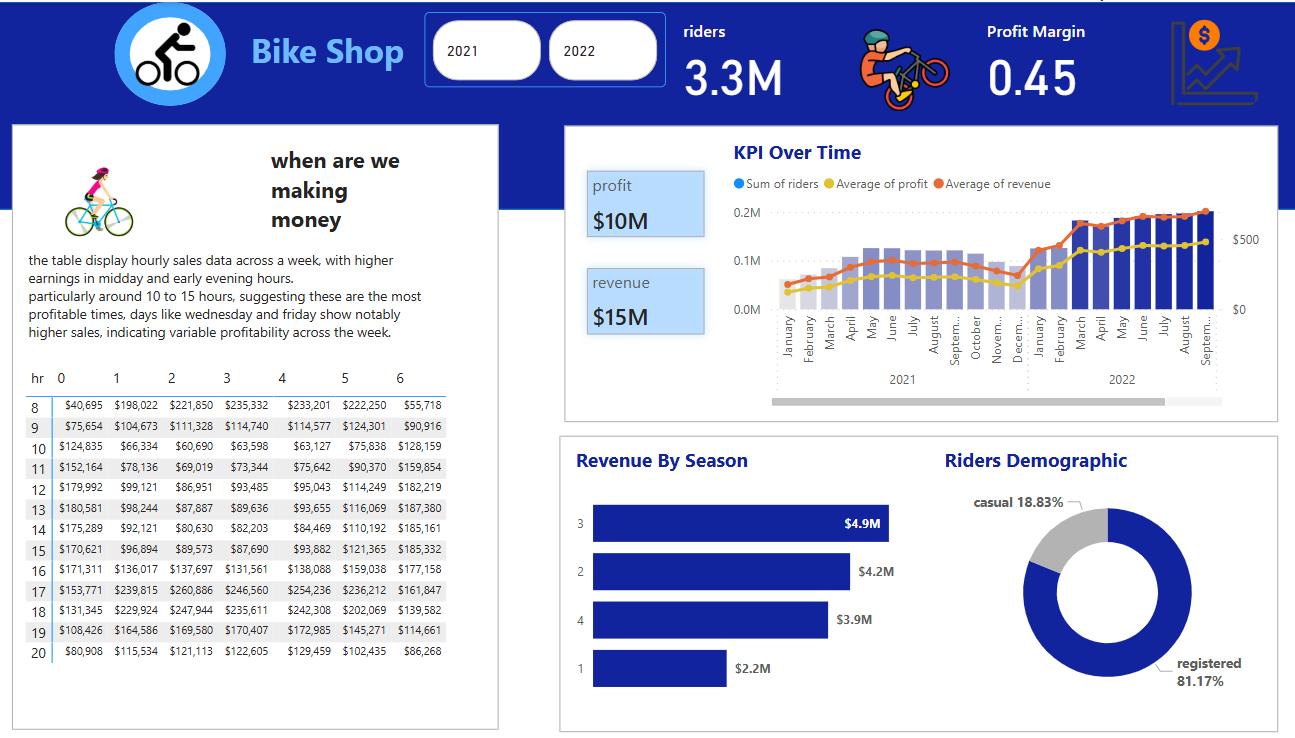

The page's visual inventory and layout, read from the dashboard file:
{"tool":"powerbi","page":{"name":"Page 1","canvas":[1280,720],"ordinal":0},"visuals":[{"type":"shape","box":[9.6,0,1270.7,203.1],"z":0},{"type":"cardVisual","fields":{"Data":["Min(Query1.riders)"]},"box":[19.6,114.9,486.5,602.6],"z":1000},{"type":"cardVisual","fields":{"Data":["Min(Query1.riders)"]},"box":[33,133.2,182.1,105.1],"z":2000},{"type":"cardVisual","fields":{"Data":["Min(Query1.riders)"]},"box":[555,419.3,713.9,300.7],"z":3000},{"type":"pivotTable","fields":{"Rows":["Query1.hr"],"Values":["Sum(Query1.revenue)"],"Columns":["Query1.weekday"]},"box":[33,352.1,460.8,353.3],"z":4000},{"type":"textbox","box":[272.6,134.5,154,103.9],"z":5000},{"type":"textbox","box":[35.4,238.4,412,103.9],"z":6000},{"type":"clusteredBarChart","title":"Revenue By Season","fields":{"Y":["Sum(Query1.revenue)"],"Category":["Query1.season"]},"box":[570.9,435.2,347.2,260.4],"z":7000},{"type":"donutChart","title":"Riders Demographic","fields":{"Y":["Sum(Query1.riders)"],"Category":["Query1.rider_type"]},"box":[931.5,435.2,328.8,260.4],"z":8000},{"type":"cardVisual","fields":{"Data":["Min(Query1.riders)"]},"box":[559.9,116.1,709,300.7],"z":9000},{"type":"lineClusteredColumnComboChart","title":"KPI Over Time","fields":{"Y":["Sum(Query1.riders)"],"Category":["Query1.dteday.Variation.Date Hierarchy.Year","Query1.dteday.Variation.Date Hierarchy.Month","Query1.dteday.Variation.Date Hierarchy.Day"],"Y2":["Avg(Query1.profit)","Avg(Query1.revenue)"]},"box":[724.9,133.2,524.4,266.5],"z":10000},{"type":"cardVisual","title":"KPI Over Time","fields":{"Data":["Sum(Query1.profit)","Sum(Query1.revenue)"]},"box":[570.9,149.1,147.9,193.1],"z":11000},{"type":"cardVisual","fields":{"Data":["Sum(Query1.riders)","Query1.Profit Margin"]},"box":[663.8,0,596.5,116.1],"z":12000},{"type":"shape","box":[124.7,0,108.8,101.5],"z":13000},{"type":"image","box":[140.6,14.7,72.1,73.3],"z":14000},{"type":"textbox","box":[253,20.8,347.2,62.3],"z":15000},{"type":"advancedSlicerVisual","fields":{"Values":["Query1.year"]},"box":[427.8,9.8,235.9,73.3],"z":15001}]}

Visuals, with their boxes in screenshot pixels (x1, y1, x2, y2), scaled from the page's 1280x720 canvas onto the 1295x738 screenshot:
shape: left=10, top=0, right=1294, bottom=208
cardVisual - Min(Query1.riders): left=20, top=118, right=512, bottom=735
cardVisual - Min(Query1.riders): left=33, top=137, right=218, bottom=244
cardVisual - Min(Query1.riders): left=562, top=430, right=1284, bottom=737
pivotTable - Query1.hr x Sum(Query1.revenue): left=33, top=361, right=500, bottom=723
textbox: left=276, top=138, right=432, bottom=244
textbox: left=36, top=244, right=453, bottom=351
"Revenue By Season" clusteredBarChart: left=578, top=446, right=929, bottom=713
"Riders Demographic" donutChart: left=942, top=446, right=1275, bottom=713
cardVisual - Min(Query1.riders): left=566, top=119, right=1284, bottom=427
"KPI Over Time" lineClusteredColumnComboChart: left=733, top=137, right=1264, bottom=410
"KPI Over Time" cardVisual: left=578, top=153, right=727, bottom=351
cardVisual - Sum(Query1.riders) x Query1.Profit Margin: left=672, top=0, right=1275, bottom=119
shape: left=126, top=0, right=236, bottom=104
image: left=142, top=15, right=215, bottom=90
textbox: left=256, top=21, right=607, bottom=85
advancedSlicerVisual - Query1.year: left=433, top=10, right=671, bottom=85
